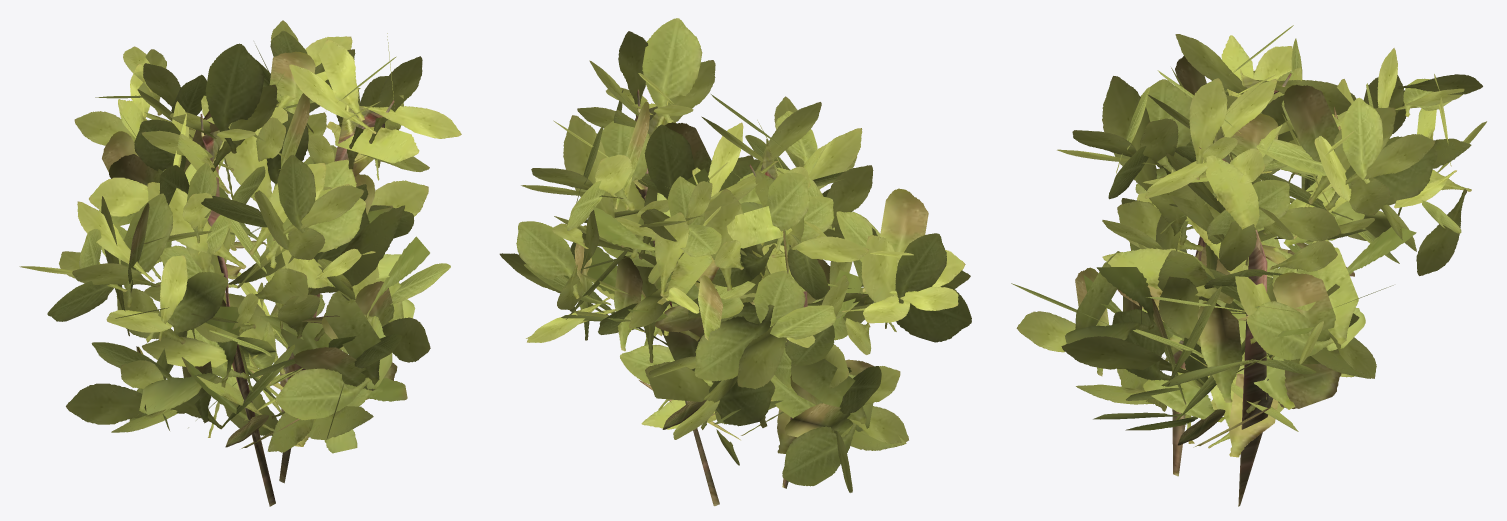
The model's file is bush_b.glb.
3 renders of one model, left to right at view 1: azimuth 30°, elevation 25°; view 2: azimuth 150°, elevation 25°; view 3: azimuth 270°, elevation 25°, orthographic. The views are drawn at different scales.
Parts seen in each view (by area): view 1: bush_b; view 2: bush_b; view 3: bush_b.
Boxes of the visible parts, <box> form: bush_b: <box>19,20,461,506</box>; bush_b: <box>499,18,971,506</box>; bush_b: <box>1011,25,1486,506</box>.
Size of what is drawn, in the model's own units: 1.18 by 1.12 by 1.02.
1 material, 1 textured.
